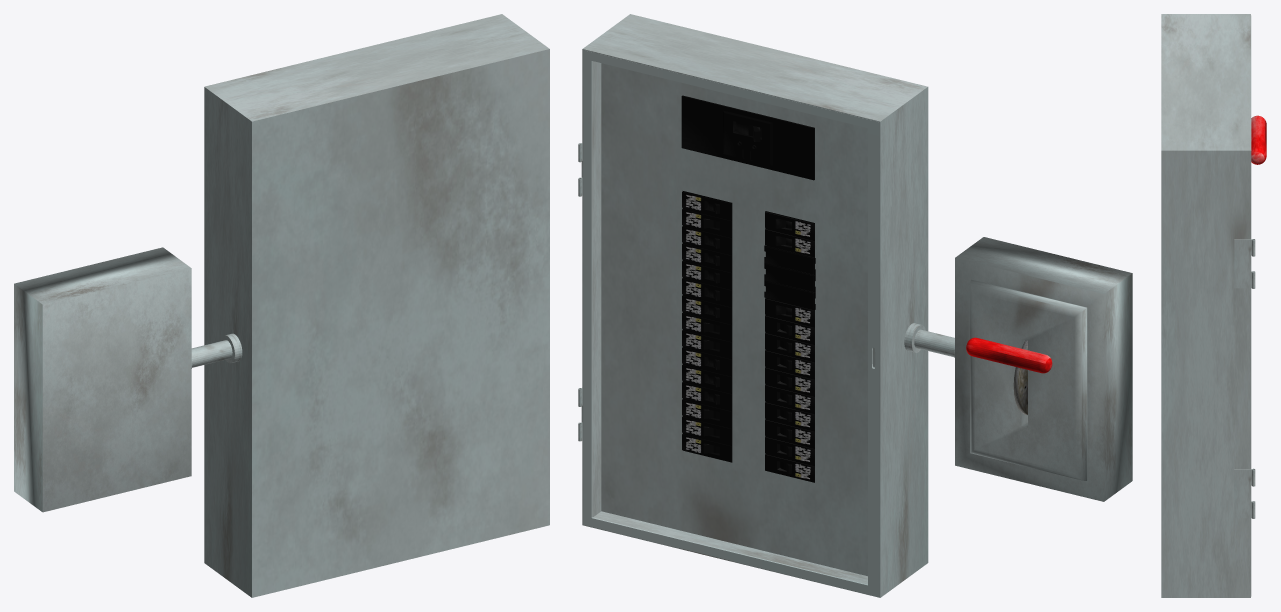
Rendered from breaker_box_V2_with_side_switch.fbx.
The picture shows the model from 3 angles, left to right: view 1: azimuth 30°, elevation 25°; view 2: azimuth 150°, elevation 25°; view 3: azimuth 270°, elevation 25°; orthographic projection. The views are drawn at different scales.
Visible parts, largest first — view 1: Breaker Box, Side box, side box tube; view 2: inside panel back, Breaker Box, Side box, inside panel front, Big Switch, Cylinder, side box tube, blank cover, blank cover.001, blank cover.002, breakerswitch on, breakerswitch off.005 (+13 smaller); view 3: Breaker Box, hinge plate.001, hinge plate, Cylinder, inside panel front.
Boxes of the visible parts, x1,y1,x2,y2 form: Breaker Box: [204, 14, 549, 597]; Side box: [14, 247, 191, 512]; side box tube: [191, 333, 242, 368]; inside panel back: [601, 63, 875, 576]; Breaker Box: [582, 14, 928, 597]; Side box: [955, 237, 1132, 501]; inside panel front: [583, 50, 879, 596]; Big Switch: [681, 95, 814, 180]; Cylinder: [966, 337, 1052, 415]; side box tube: [904, 323, 954, 357]; blank cover: [764, 245, 815, 275]; blank cover.001: [764, 263, 815, 292]; blank cover.002: [764, 280, 815, 309]; breakerswitch on: [682, 191, 732, 219]; breakerswitch off.005: [682, 433, 732, 462]; Breaker Box: [1161, 14, 1250, 597]; hinge plate.001: [1234, 468, 1255, 518]; hinge plate: [1234, 239, 1255, 288]; Cylinder: [1251, 115, 1266, 164]; inside panel front: [1251, 15, 1251, 596].
Bounding box in the file's own units: 61.31 × 55 × 11.73.
Materials: 32 (32 with a texture image).
